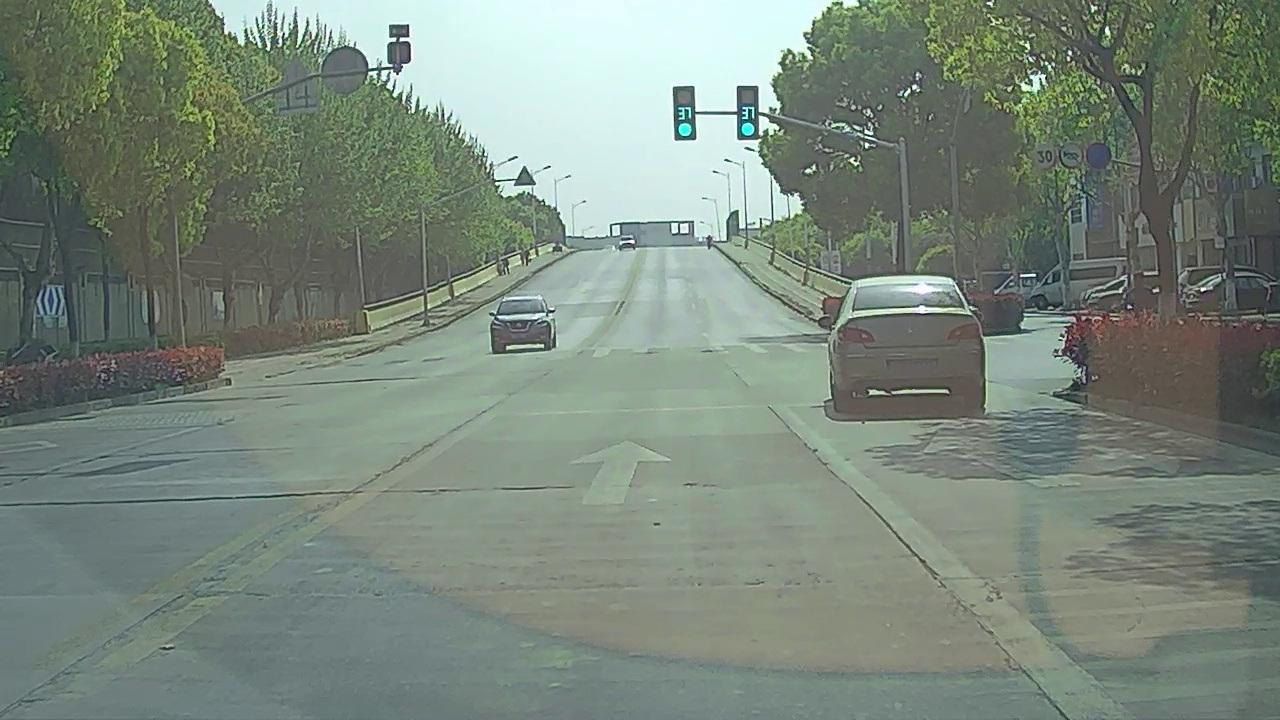traffic_light: (674, 88, 696, 141), (736, 87, 757, 142)
